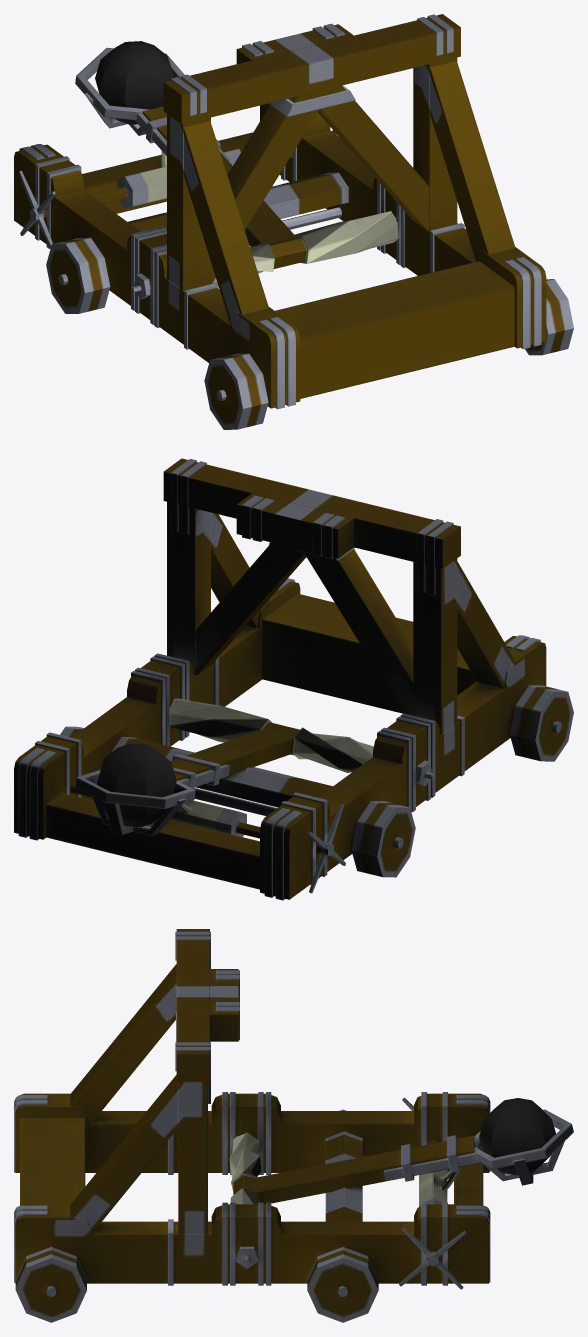
File: mangonel.glb
The picture shows the model from 3 angles, top to bottom: view 1: azimuth 30°, elevation 25°; view 2: azimuth 150°, elevation 25°; view 3: azimuth 270°, elevation 25°; orthographic projection. The views are drawn at different scales.
Visible parts, largest first — view 1: Mangonel; view 2: Mangonel; view 3: Mangonel.
Part boxes in pixels (x1,y1,x2,y2): Mangonel: (14,14,573,429); Mangonel: (14,458,573,900); Mangonel: (14,929,573,1322).
Size of the model in its own units: 1.29 by 1.02 by 2.
1 material, 1 textured.
